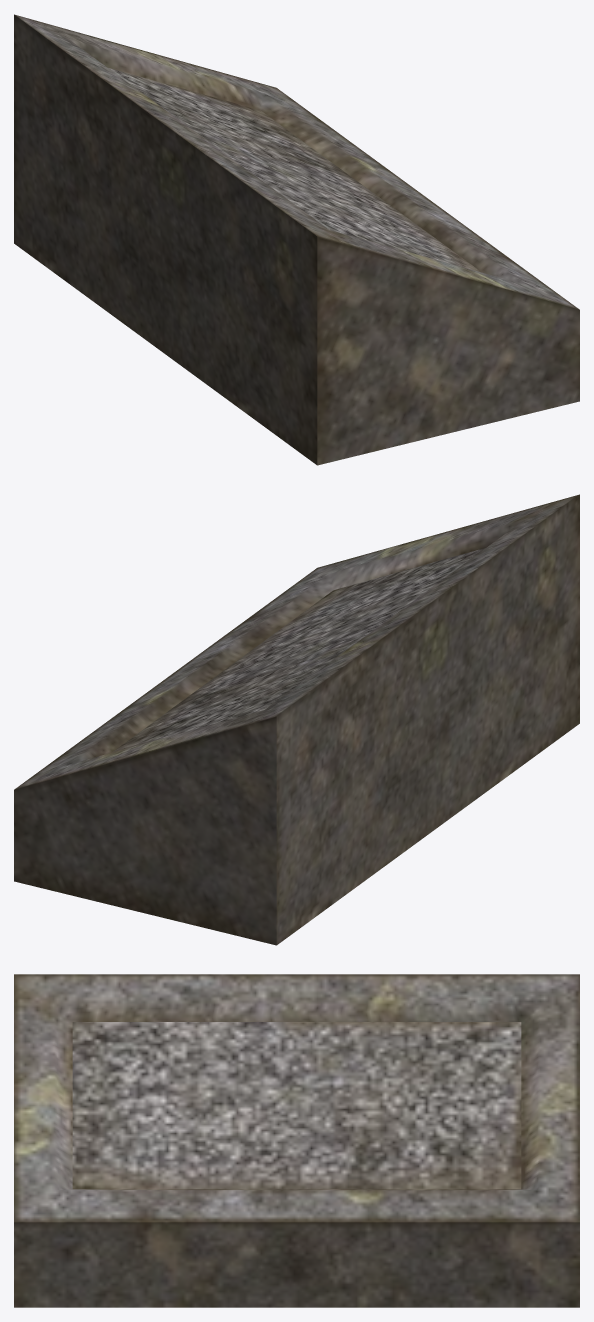
The model's file is plaque.glb.
3 renders of one model, top to bottom at view 1: azimuth 30°, elevation 25°; view 2: azimuth 150°, elevation 25°; view 3: azimuth 270°, elevation 25°, orthographic. The views are drawn at different scales.
Parts seen in each view (by area): view 1: plaque; view 2: plaque; view 3: plaque.
Boxes of the visible parts, x1,y1,x2,y2 form: plaque: (14,14,579,465); plaque: (14,494,579,945); plaque: (14,974,579,1307).
Size of the model in its own units: 30.48 by 25.4 by 60.96.
Materials: 1 (1 with a texture image).
